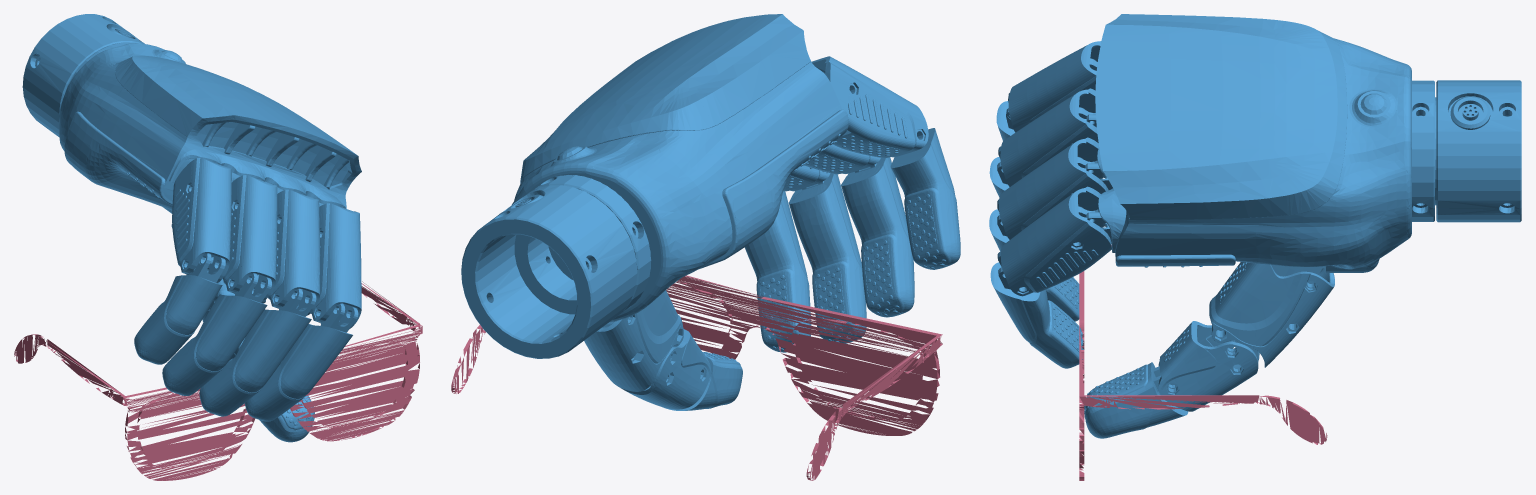
The picture shows the model from 3 angles, left to right: view 1: azimuth 30°, elevation 25°; view 2: azimuth 150°, elevation 25°; view 3: azimuth 270°, elevation 25°; orthographic projection. The views are drawn at different scales.
Visible parts, largest first — view 1: 0; view 2: 0; view 3: 0.
Part boxes in pixels (box(x1,y1,x2,y2)): 0: box(14, 14, 422, 480); 0: box(451, 14, 960, 480); 0: box(989, 14, 1521, 480).
Bounding box in the file's own units: 0.1361 × 0.1486 × 0.1874.
